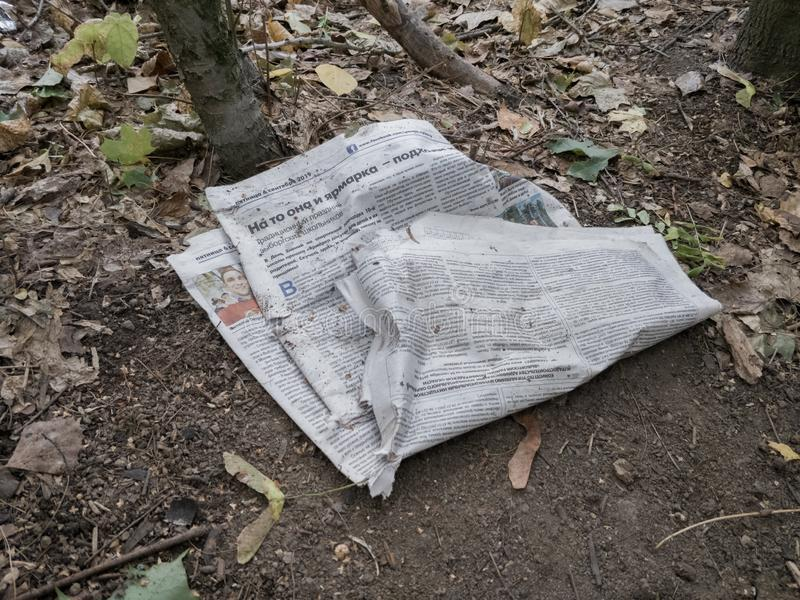leaf: (7, 414, 90, 475), (539, 131, 624, 187), (91, 10, 150, 73), (94, 124, 161, 169), (304, 54, 364, 99), (757, 412, 800, 472), (504, 1, 546, 48), (591, 78, 634, 116), (670, 66, 709, 104)
paper: (151, 114, 725, 506)
